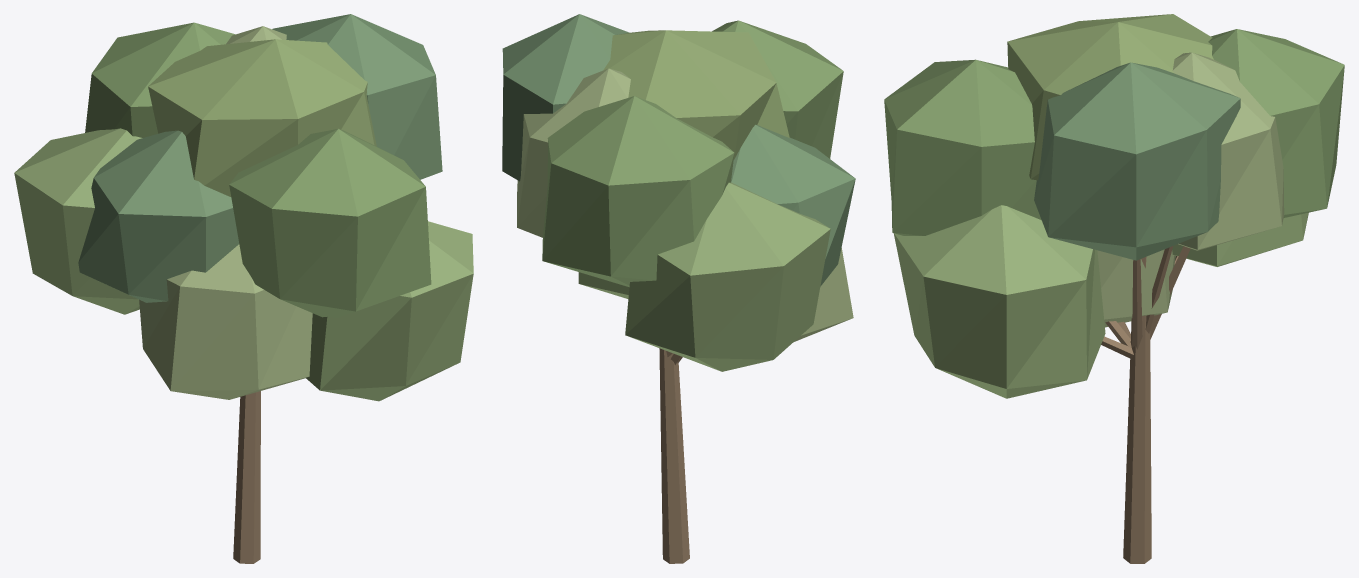
The picture shows the model from 3 angles, left to right: view 1: azimuth 30°, elevation 25°; view 2: azimuth 150°, elevation 25°; view 3: azimuth 270°, elevation 25°; orthographic projection. The views are drawn at different scales.
Size of the model in its own units: 7.6 by 10.96 by 8.36.
